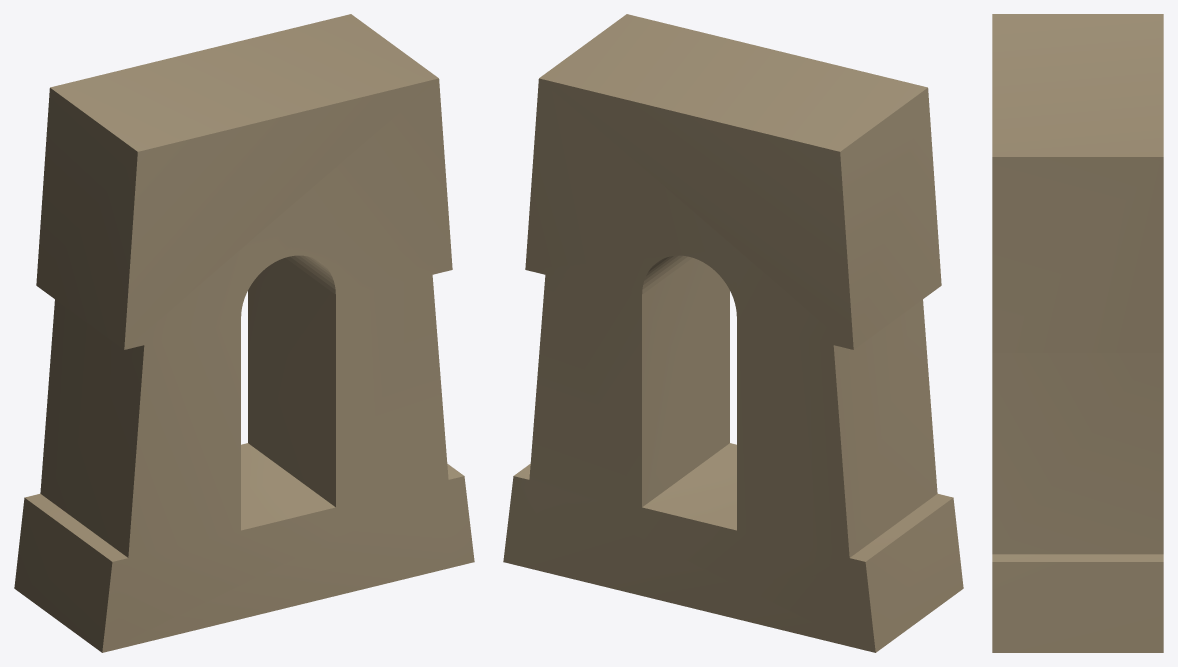
File: ORIGEN_MASTER.glb
3 views of the same model, side by side, from view 1: azimuth 30°, elevation 25°; view 2: azimuth 150°, elevation 25°; view 3: azimuth 270°, elevation 25° (orthographic). The views are drawn at different scales.
Parts seen in each view (by area): view 1: ORIGEN_SYMBOL_Mesh; view 2: ORIGEN_SYMBOL_Mesh; view 3: ORIGEN_SYMBOL_Mesh.
Boxes of the visible parts, x1,y1,x2,y2 form: ORIGEN_SYMBOL_Mesh: (14,14,474,652); ORIGEN_SYMBOL_Mesh: (503,14,963,652); ORIGEN_SYMBOL_Mesh: (992,14,1163,652).
Bounding box in the file's own units: 2.2 × 2.78 × 0.9.
